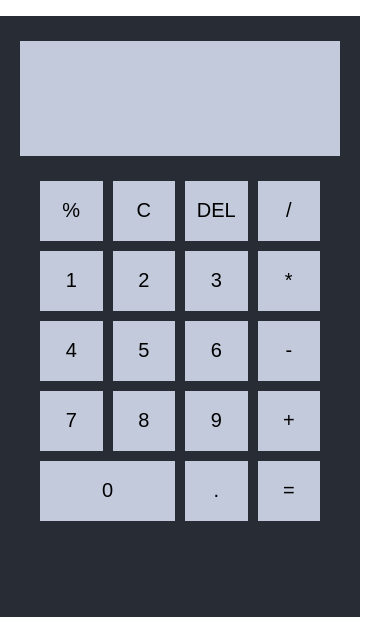
Operation › Multiplicación
expect the element titled "Displa" is empty: met, box [20, 41, 340, 156]
Click the button "2": (144, 281) [112, 251, 175, 311]
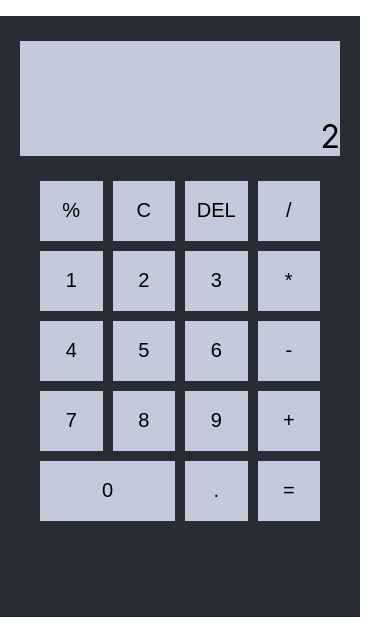
Click the button "*": (289, 281) [258, 251, 320, 311]
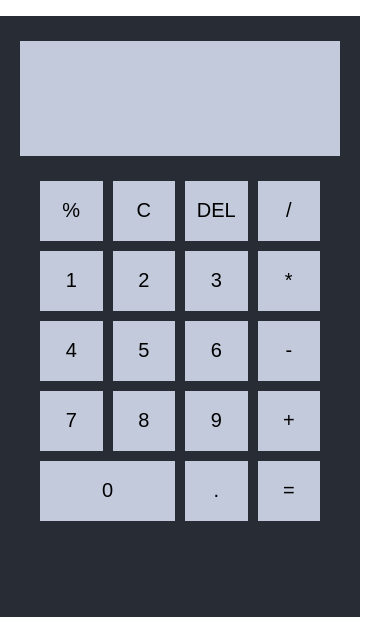
Click the button "3": (216, 281) [185, 251, 248, 311]
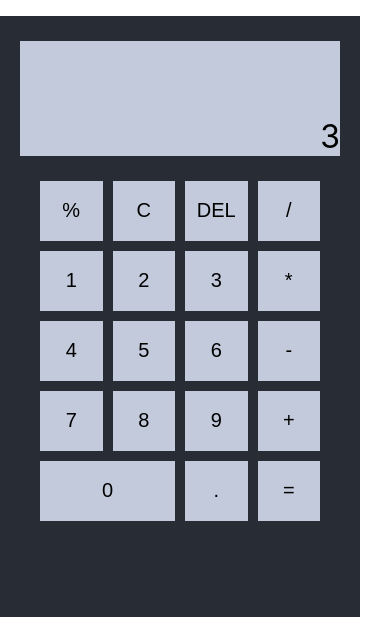
Click the button "=": (289, 491) [258, 461, 320, 521]
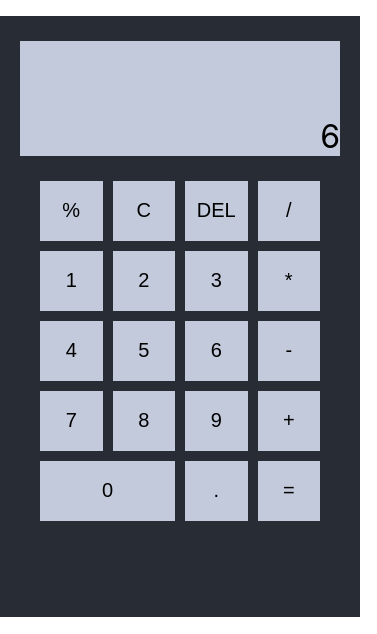
expect the text titled "Displa" reads "6": met, box [320, 117, 340, 156]
